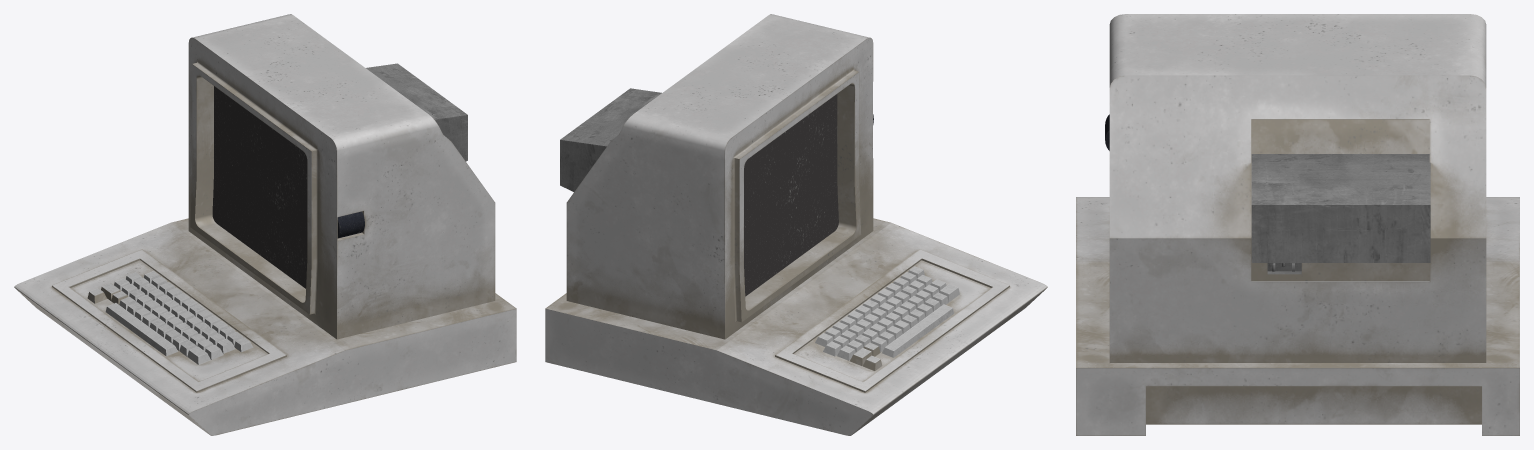
The model's file is computer_no_alpha.glb.
The picture shows the model from 3 angles, left to right: view 1: azimuth 30°, elevation 25°; view 2: azimuth 150°, elevation 25°; view 3: azimuth 270°, elevation 25°; orthographic projection. The views are drawn at different scales.
Visible parts, largest first — view 1: Cube; view 2: Cube; view 3: Cube.
Part boxes in pixels (left/top/right/bottom): Cube: left=14, top=14, right=516, bottom=435; Cube: left=545, top=14, right=1047, bottom=435; Cube: left=1076, top=14, right=1519, bottom=435.
Bounding box in the file's own units: 1.92 × 1.33 × 1.67.
1 material, 1 textured.
